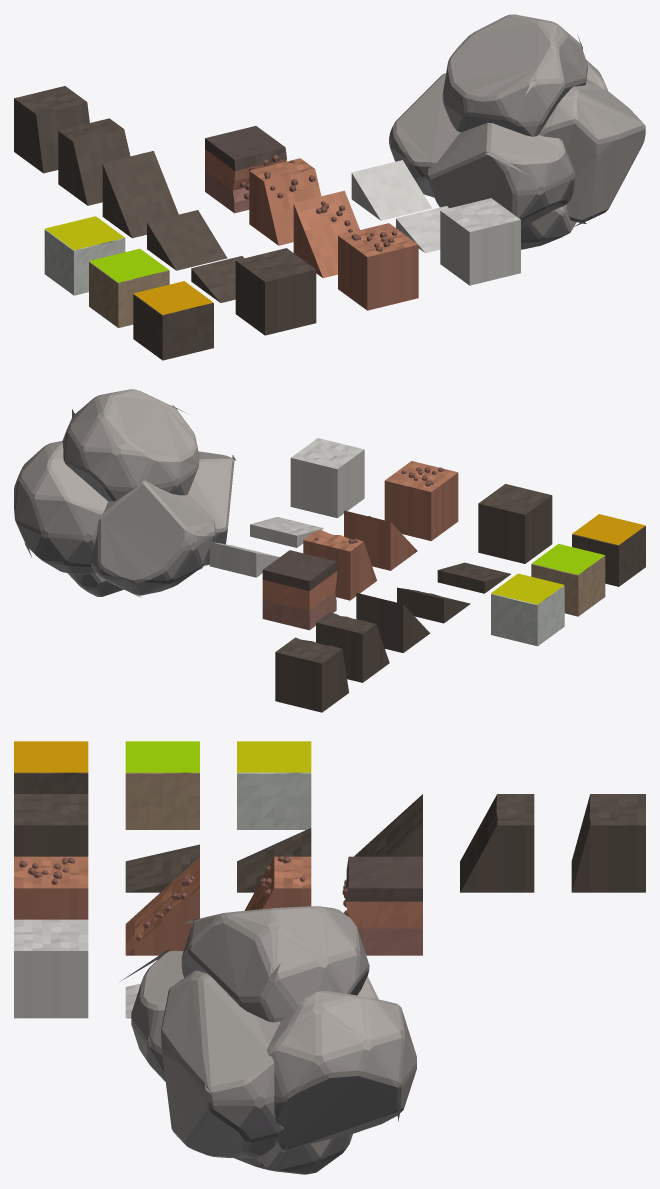
Rendered from kit_bioma_floresta.glb.
3 renders of one model, top to bottom at view 1: azimuth 30°, elevation 25°; view 2: azimuth 150°, elevation 25°; view 3: azimuth 270°, elevation 25°, orthographic. The views are drawn at different scales.
Parts seen in each view (by area): view 1: Boulder_Granite_Chunk_4, Boulder_Granite_Chunk_0, Boulder_Granite_Chunk_1, Soil_Organic_TerraPreta_Flat, Subsoil_Laterita_Ferrosa_Flat, Soil_WhiteSand_Campinarana_Flat, Soil_Organic_TerraPreta_Slope45, Subsoil_Laterita_Ferrosa_Wall90, Soil_Organic_TerraPreta_Cliff75, Boulder_Granite_Chunk_2, Subsoil_Laterita_Ferrosa_Cliff60, Soil_Organic_TerraPreta_Cliff60 (+12 smaller); view 2: Boulder_Granite_Chunk_4, Boulder_Granite_Chunk_2, Boulder_Granite_Chunk_3, Soil_Organic_TerraPreta_Flat, Soil_WhiteSand_Campinarana_Flat, Subsoil_Laterita_Ferrosa_Wall90, Subsoil_Laterita_Ferrosa_Flat, Soil_Organic_TerraPreta_Cliff75, Soil_Organic_TerraPreta_Cliff60, Riverbed_Turquesa, Subsoil_Laterita_Ferrosa_Cliff60, Boulder_Granite_Chunk_0 (+12 smaller); view 3: Boulder_Granite_Chunk_3, Boulder_Granite_Chunk_1, Boulder_Granite_Chunk_4, Soil_WhiteSand_Campinarana_Flat, Subsoil_Laterita_Ferrosa_Wall90, Soil_Organic_TerraPreta_Cliff75, Soil_Organic_TerraPreta_Cliff60, Subsoil_Laterita_Ferrosa_Flat, Soil_Organic_TerraPreta_Flat, Subsoil_Laterita_Ferrosa_Slope45, Riverbed_Barrenta, Riverbed_Turquesa (+10 smaller).
Part boxes in pixels (box(x1,y1,x2,y2)): Boulder_Granite_Chunk_4: box(442, 14, 587, 136); Boulder_Granite_Chunk_0: box(426, 122, 575, 229); Boulder_Granite_Chunk_1: box(539, 78, 645, 226); Soil_Organic_TerraPreta_Flat: box(235, 248, 316, 335); Subsoil_Laterita_Ferrosa_Flat: box(338, 223, 418, 310); Soil_WhiteSand_Campinarana_Flat: box(440, 198, 520, 285); Soil_Organic_TerraPreta_Slope45: box(102, 151, 178, 238); Subsoil_Laterita_Ferrosa_Wall90: box(205, 126, 286, 213); Soil_Organic_TerraPreta_Cliff75: box(14, 86, 89, 173); Boulder_Granite_Chunk_2: box(389, 73, 460, 197); Subsoil_Laterita_Ferrosa_Cliff60: box(249, 158, 321, 245); Soil_Organic_TerraPreta_Cliff60: box(58, 118, 130, 205); Boulder_Granite_Chunk_4: box(62, 389, 199, 501); Boulder_Granite_Chunk_2: box(90, 480, 215, 597); Boulder_Granite_Chunk_3: box(14, 441, 107, 574); Soil_Organic_TerraPreta_Flat: box(478, 484, 552, 563); Soil_WhiteSand_Campinarana_Flat: box(290, 438, 364, 518); Subsoil_Laterita_Ferrosa_Wall90: box(262, 550, 337, 630); Subsoil_Laterita_Ferrosa_Flat: box(384, 461, 458, 540); Soil_Organic_TerraPreta_Cliff75: box(275, 637, 348, 712); Soil_Organic_TerraPreta_Cliff60: box(316, 612, 389, 682); Riverbed_Turquesa: box(491, 585, 564, 646); Subsoil_Laterita_Ferrosa_Cliff60: box(303, 530, 376, 600); Boulder_Granite_Chunk_0: box(188, 451, 236, 565); Boulder_Granite_Chunk_3: box(267, 991, 416, 1151); Boulder_Granite_Chunk_1: box(161, 970, 284, 1157); Boulder_Granite_Chunk_4: box(181, 906, 369, 1022); Soil_WhiteSand_Campinarana_Flat: box(14, 919, 88, 1018); Subsoil_Laterita_Ferrosa_Wall90: box(342, 856, 422, 955); Soil_Organic_TerraPreta_Cliff75: box(571, 794, 645, 892); Soil_Organic_TerraPreta_Cliff60: box(460, 794, 534, 892); Subsoil_Laterita_Ferrosa_Flat: box(14, 856, 88, 919); Soil_Organic_TerraPreta_Flat: box(14, 794, 88, 856); Subsoil_Laterita_Ferrosa_Slope45: box(125, 857, 199, 955); Riverbed_Barrenta: box(125, 772, 199, 829); Riverbed_Turquesa: box(237, 772, 311, 829).
Bounding box in the file's own units: 10.98 × 3.89 × 8.5.
